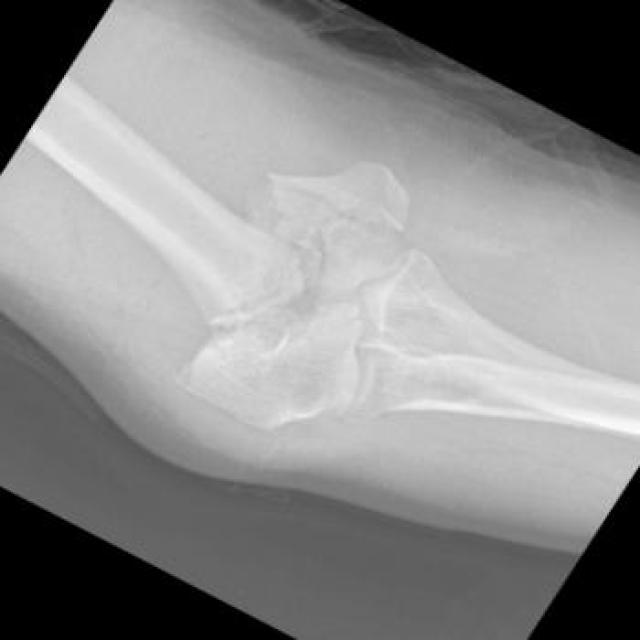Fracture: (243, 172, 362, 246)
